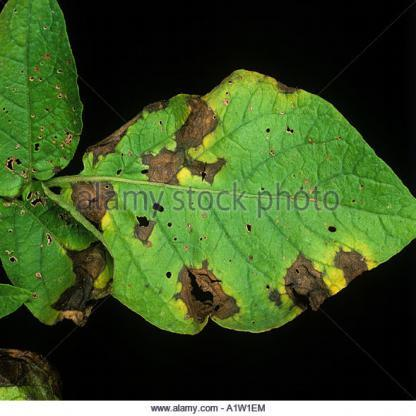Potato leaf late blight: (53, 66, 415, 338), (3, 183, 113, 332)
